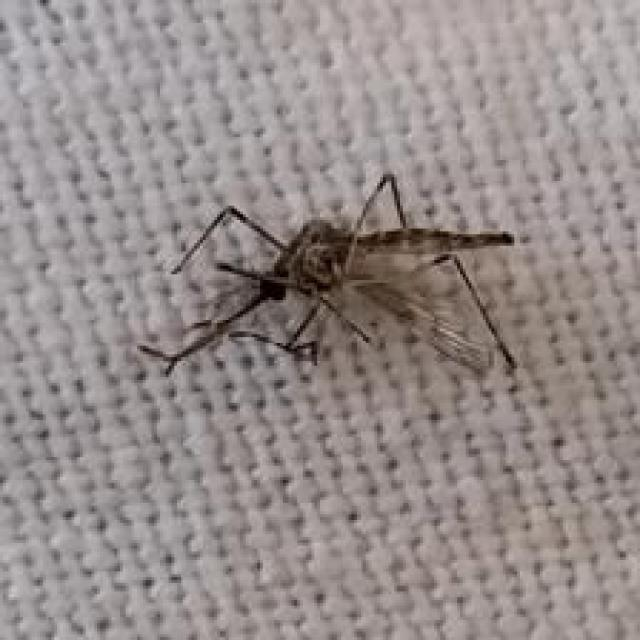Culex: (136, 170, 518, 381)
